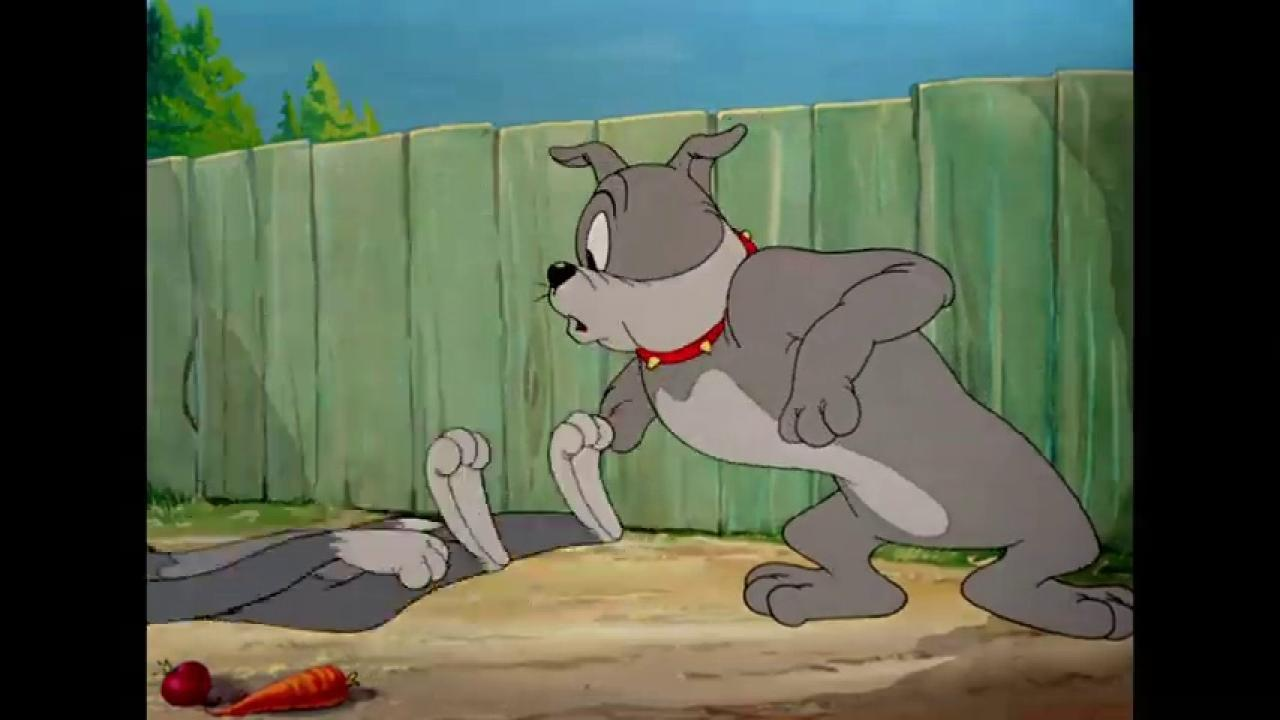Tom: (148, 405, 627, 635)
